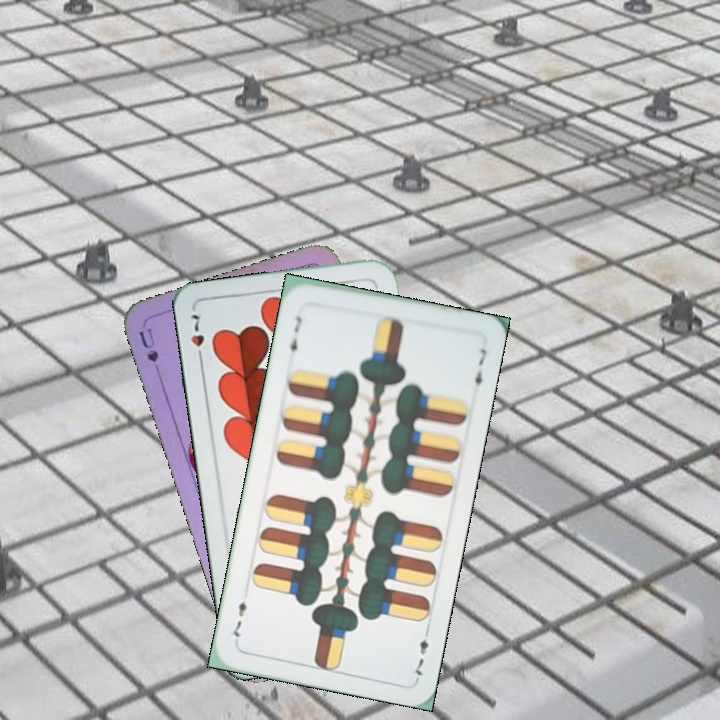E7: (408, 623, 433, 678), (285, 311, 304, 360)
H7: (186, 310, 207, 366)
SU: (134, 324, 165, 382)
